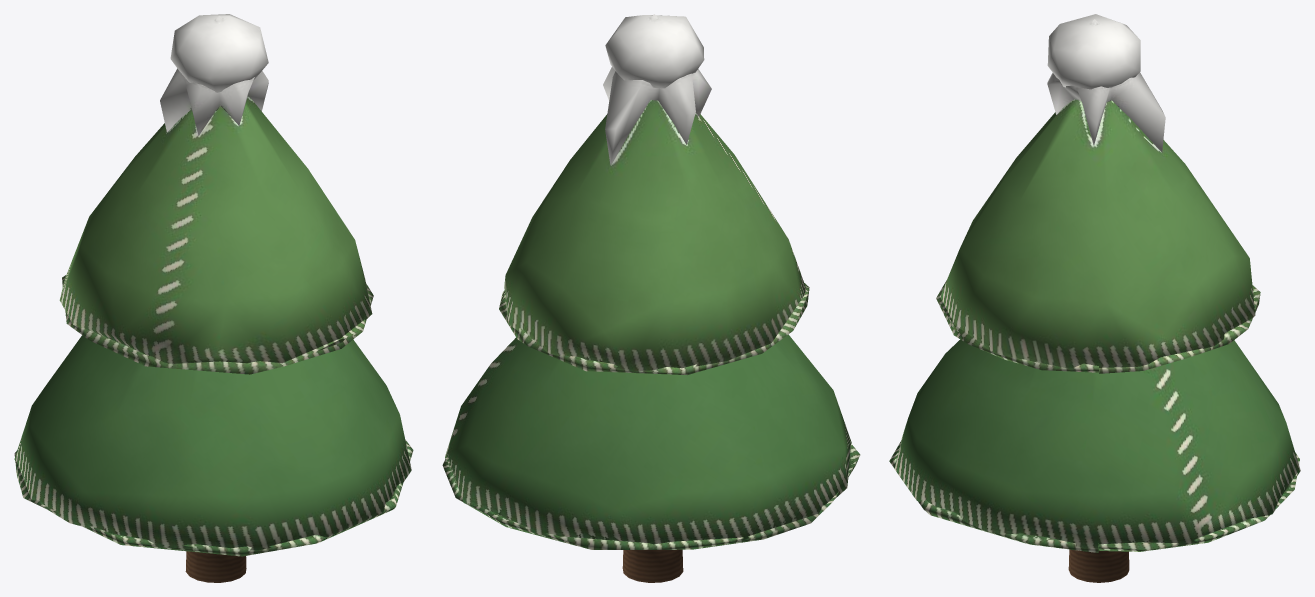
The model's file is tree_round.glb.
The picture shows the model from 3 angles, left to right: view 1: azimuth 30°, elevation 25°; view 2: azimuth 150°, elevation 25°; view 3: azimuth 270°, elevation 25°; orthographic projection.
Visible parts, largest first — view 1: prop_tree_round_felt, prop_tree_round_wood; view 2: prop_tree_round_felt, prop_tree_round_wood; view 3: prop_tree_round_felt, prop_tree_round_wood.
Part boxes in pixels (bbox=[...]): prop_tree_round_felt: bbox=[14, 14, 413, 556]; prop_tree_round_wood: bbox=[185, 551, 246, 582]; prop_tree_round_felt: bbox=[442, 14, 860, 549]; prop_tree_round_wood: bbox=[622, 549, 683, 582]; prop_tree_round_felt: bbox=[889, 14, 1300, 552]; prop_tree_round_wood: bbox=[1068, 549, 1129, 582].
Bounding box in the file's own units: 3.67 × 5.51 × 3.73.
Materials: 2 (2 with a texture image).
